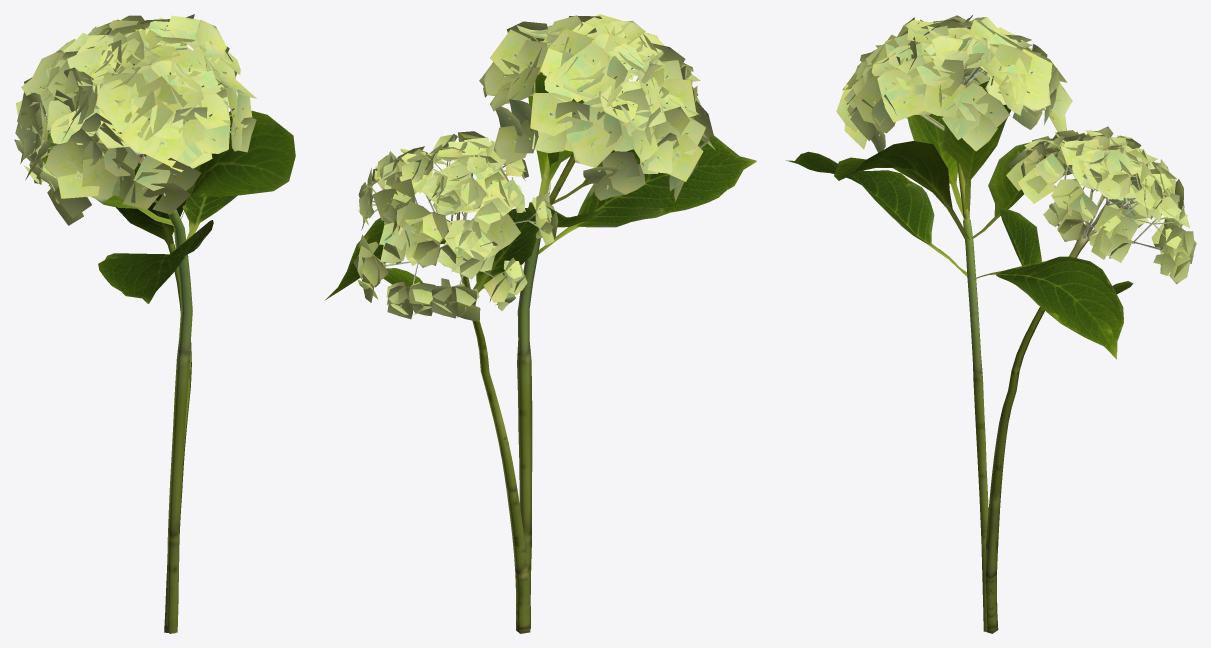
Rendered from Hydrangea_bush_short_greenyellow.glb.
3 views of the same model, side by side, from view 1: azimuth 30°, elevation 25°; view 2: azimuth 150°, elevation 25°; view 3: azimuth 270°, elevation 25° (orthographic). The views are drawn at different scales.
Parts seen in each view (by area): view 1: BUSHEKK; view 2: BUSHEKK; view 3: BUSHEKK.
Part boxes in pixels (x1,y1,x2,y2): BUSHEKK: (14, 14, 295, 633); BUSHEKK: (325, 14, 756, 633); BUSHEKK: (786, 15, 1196, 633).
Bounding box in the file's own units: 1.48 × 2.94 × 1.87.
1 material, 1 textured.
